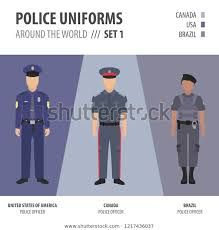uniform: (15, 90, 47, 178), (92, 91, 124, 177), (171, 91, 201, 177)
